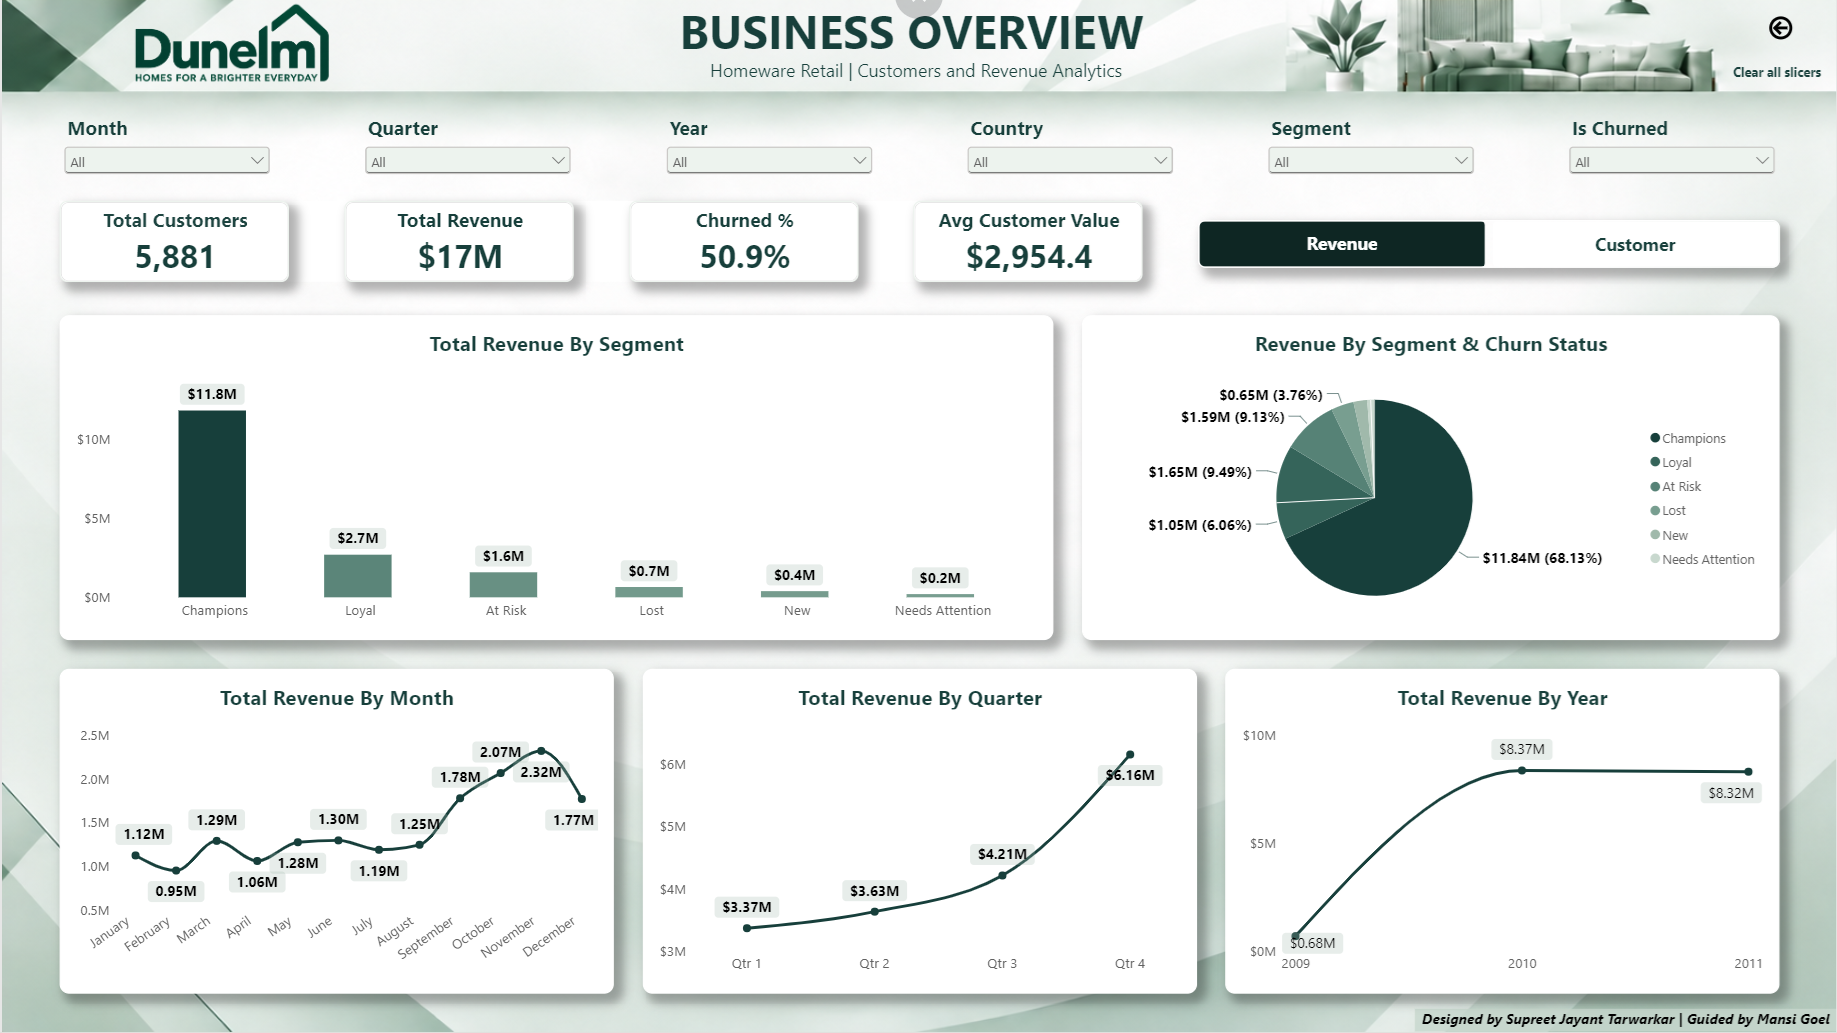

What the dashboard file says about the page in this screenshot:
{"tool":"powerbi","page":{"name":"Business Overview","canvas":[1920,1080],"ordinal":1},"visuals":[{"type":"slicer","title":"Month","fields":{"Values":["Sheet1.invoicedate.Variation.Date Hierarchy.Month"]},"box":[60,120,225,65],"z":0,"group":"g3"},{"type":"cardVisual","title":"Total Customers","fields":{"Data":["Cal  Measures.Total Customers"]},"box":[60.4,210,240,85],"z":0,"group":"g2"},{"type":"shape","box":[1478.6,1055.8,441.7,24.2],"z":0},{"type":"slicer","title":"Quarter","fields":{"Values":["Sheet1.invoicedate.Variation.Date Hierarchy.Quarter"]},"box":[375,120,225,65],"z":1000,"group":"g3"},{"type":"cardVisual","title":"Total Revenue","fields":{"Data":["Cal  Measures.Total Revenue"]},"box":[358.2,210,240,85],"z":1000,"group":"g2"},{"type":"textbox","title":"Author","box":[1478.6,1055.8,441.7,24.2],"z":1000},{"type":"slicer","title":"Year","fields":{"Values":["Sheet1.invoicedate.Variation.Date Hierarchy.Year"]},"box":[690,120,225,65],"z":2000,"group":"g3"},{"type":"cardVisual","title":"Churned %","fields":{"Data":["Cal  Measures.Churned %"]},"box":[656.1,210,240,85],"z":2000,"group":"g2"},{"type":"group","id":"g1","title":"Revenue","box":[60,330,1800,710],"z":2000},{"type":"lineChart","title":"Total Revenue By Year","fields":{"Category":["Sheet1.invoicedate.Variation.Date Hierarchy.Year"],"Y":["Cal  Measures.Total Revenue"]},"box":[1280,700,580,340],"z":2500,"group":"g1"},{"type":"slicer","title":"Country","fields":{"Values":["Sheet1.country"]},"box":[1005,120,225,65],"z":3000,"group":"g3"},{"type":"cardVisual","title":"Avg Customer Value","fields":{"Data":["Cal  Measures.Avg Customer Value"]},"box":[953.9,210,240,85],"z":3000,"group":"g2"},{"type":"lineChart","title":"Total Revenue By Quarter","fields":{"Category":["Sheet1.invoicedate.Variation.Date Hierarchy.Quarter"],"Y":["Cal  Measures.Total Revenue"]},"box":[670,700,580,340],"z":3000,"group":"g1"},{"type":"slicer","title":"Segment","fields":{"Values":["Sheet1.Segment"]},"box":[1320,120,225,65],"z":4000,"group":"g3"},{"type":"group","id":"g2","title":"KPI'S","box":[60.4,210,1133.5,85],"z":4000},{"type":"lineChart","title":"Total Revenue By Month","fields":{"Category":["Sheet1.invoicedate.Variation.Date Hierarchy.Month"],"Y":["Cal  Measures.Total Revenue"]},"box":[60,700,580,340],"z":4125,"group":"g1"},{"type":"pieChart","title":"Revenue By Segment & Churn Status","fields":{"Category":["Sheet1.Segment"],"Series":["Sheet1.Churn Status"],"Y":["Cal  Measures.Total Revenue"]},"box":[1130,330,730,340],"z":4250,"group":"g1"},{"type":"clusteredColumnChart","title":"Total Revenue By Segment","fields":{"Category":["Sheet1.Segment"],"Y":["Cal  Measures.Total Revenue"]},"box":[60,330,1040,340],"z":4750,"group":"g1"},{"type":"slicer","title":"Is Churned","fields":{"Values":["Sheet1.IsChurned"]},"box":[1635,120,225,65],"z":5000,"group":"g3"},{"type":"bookmarkNavigator","box":[1251.7,230,609.3,50.3],"z":5000},{"type":"actionButton","title":"Back Botton","box":[1830.1,9.4,61.9,40.4],"z":6000},{"type":"actionButton","title":"Clear Slicer Button","box":[1795.1,54,125,40],"z":7000},{"type":"textbox","title":"Sub Title","box":[741.2,60.6,437.7,35],"z":8000},{"type":"textbox","title":"Title","box":[708.9,0,502.3,80],"z":9000},{"type":"image","title":"Logo","box":[82.1,0,324.5,95.6],"z":10000},{"type":"group","id":"g3","title":"Slicer","box":[60,120,1800,65],"z":11000}]}

Visuals, with their boxes in screenshot pixels (x1, y1, x2, y2), scaled from the page's 1920x1080 canvas onto the 1837x1033 screenshot:
"Month" slicer: l=57, t=115, r=273, b=177
"Total Customers" cardVisual: l=58, t=201, r=287, b=282
shape: l=1415, t=1010, r=1836, b=1032
"Quarter" slicer: l=359, t=115, r=574, b=177
"Total Revenue" cardVisual: l=343, t=201, r=572, b=282
"Author" textbox: l=1415, t=1010, r=1836, b=1032
"Year" slicer: l=660, t=115, r=875, b=177
"Churned %" cardVisual: l=628, t=201, r=857, b=282
"Revenue" group: l=57, t=316, r=1780, b=995
"Total Revenue By Year" lineChart: l=1225, t=670, r=1780, b=995
"Country" slicer: l=962, t=115, r=1177, b=177
"Avg Customer Value" cardVisual: l=913, t=201, r=1142, b=282
"Total Revenue By Quarter" lineChart: l=641, t=670, r=1196, b=995
"Segment" slicer: l=1263, t=115, r=1478, b=177
"KPI'S" group: l=58, t=201, r=1142, b=282
"Total Revenue By Month" lineChart: l=57, t=670, r=612, b=995
"Revenue By Segment & Churn Status" pieChart: l=1081, t=316, r=1780, b=641
"Total Revenue By Segment" clusteredColumnChart: l=57, t=316, r=1052, b=641
"Is Churned" slicer: l=1564, t=115, r=1780, b=177
bookmarkNavigator: l=1198, t=220, r=1781, b=268
"Back Botton" actionButton: l=1751, t=9, r=1810, b=48
"Clear Slicer Button" actionButton: l=1717, t=52, r=1836, b=90
"Sub Title" textbox: l=709, t=58, r=1128, b=91
"Title" textbox: l=678, t=0, r=1159, b=77
"Logo" image: l=79, t=0, r=389, b=91
"Slicer" group: l=57, t=115, r=1780, b=177
